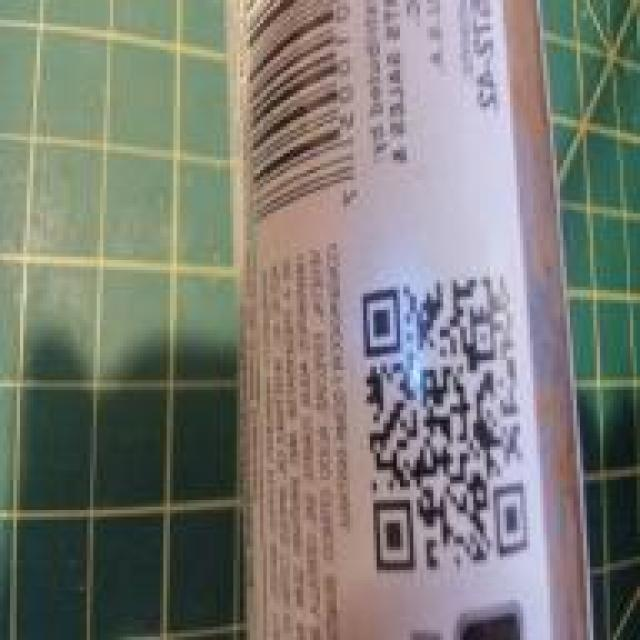QR_CODE: (350, 260, 528, 597)
